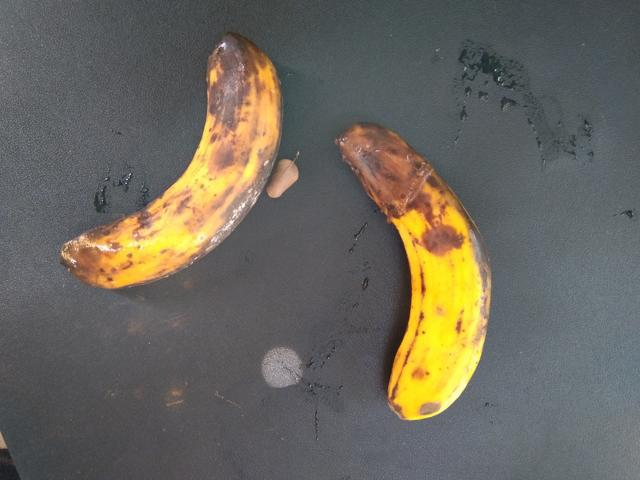rotten: (322, 99, 525, 461), (47, 22, 297, 288)
